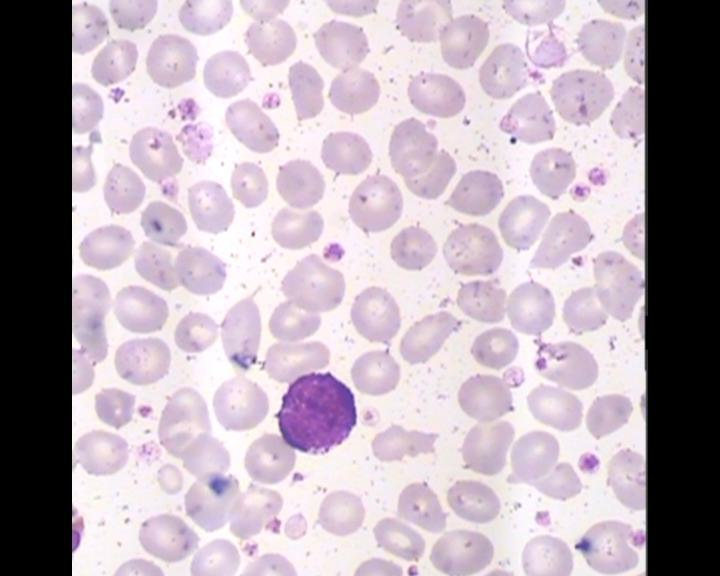baso: (268, 370, 361, 458)
